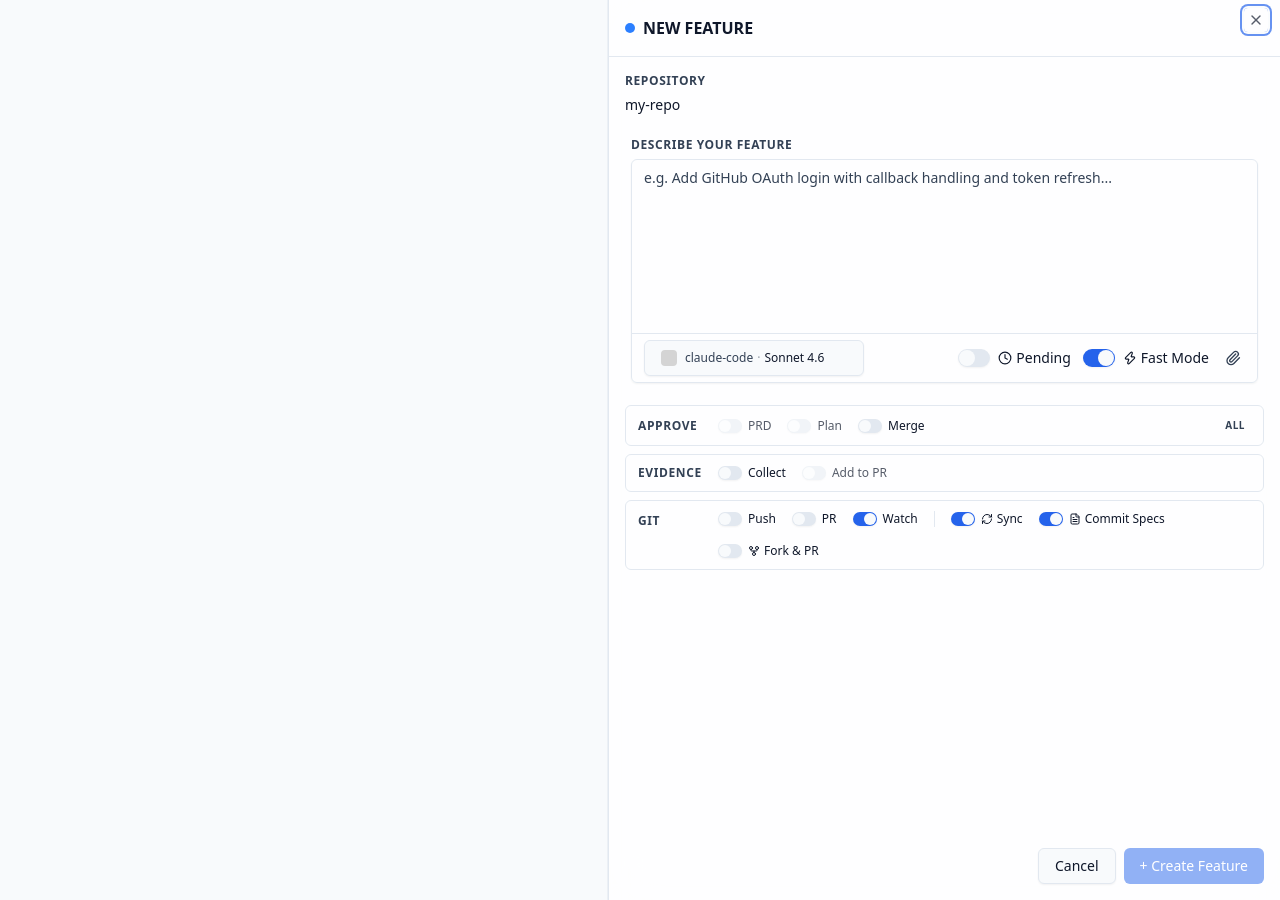
Test: FeatureCreateDrawer › auto-approve All toggle button › clicking All button selects all switches when none are selected
Click the button "All" at (1235, 426), box [1219,416,1251,435]
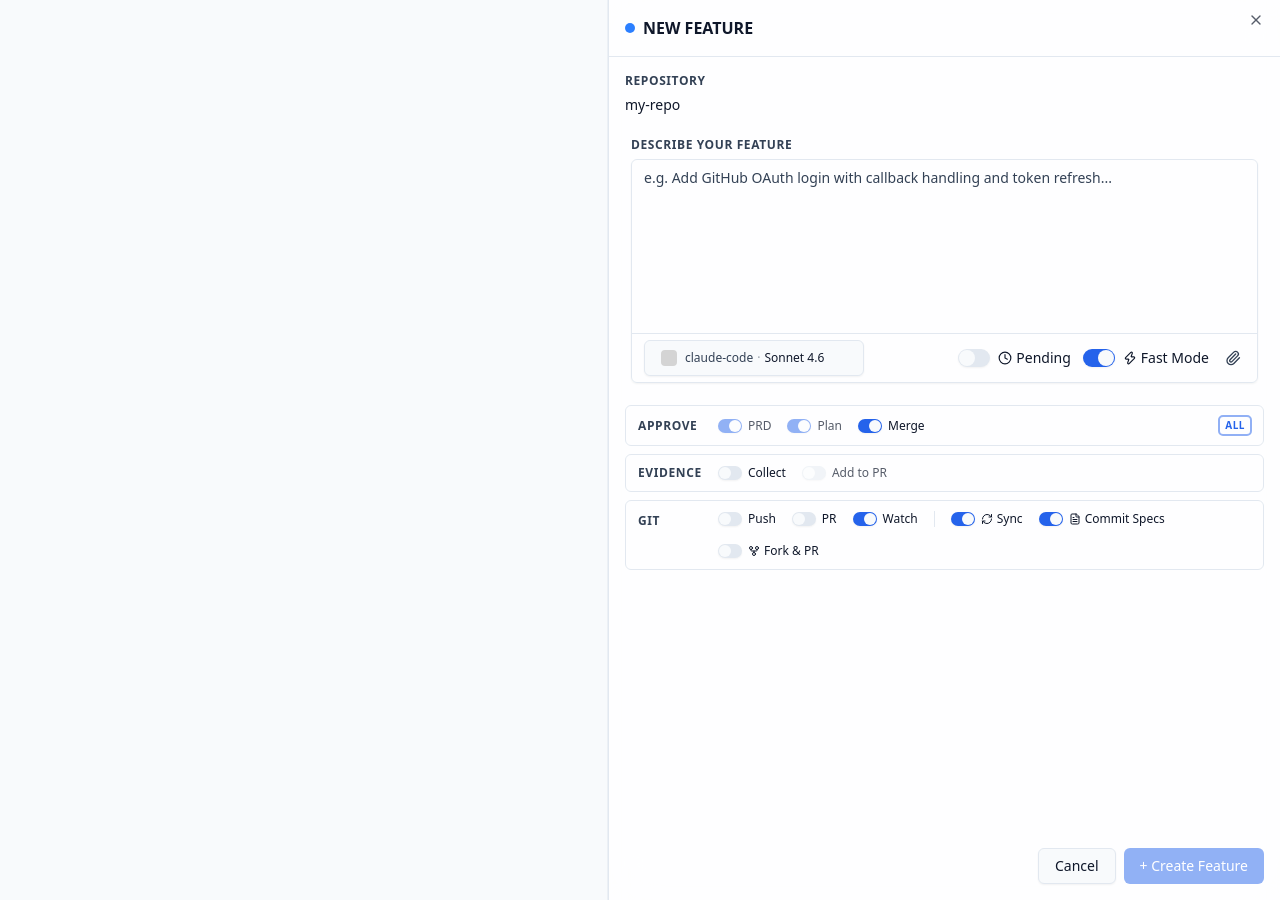
Now the switch named "PRD" next to "PRD" is checked, box [718,418,742,432]
Now the switch named "Plan" next to "Plan" is checked, box [788,418,812,432]
Now the switch named "Merge" next to "Merge" is checked, box [858,418,882,432]
